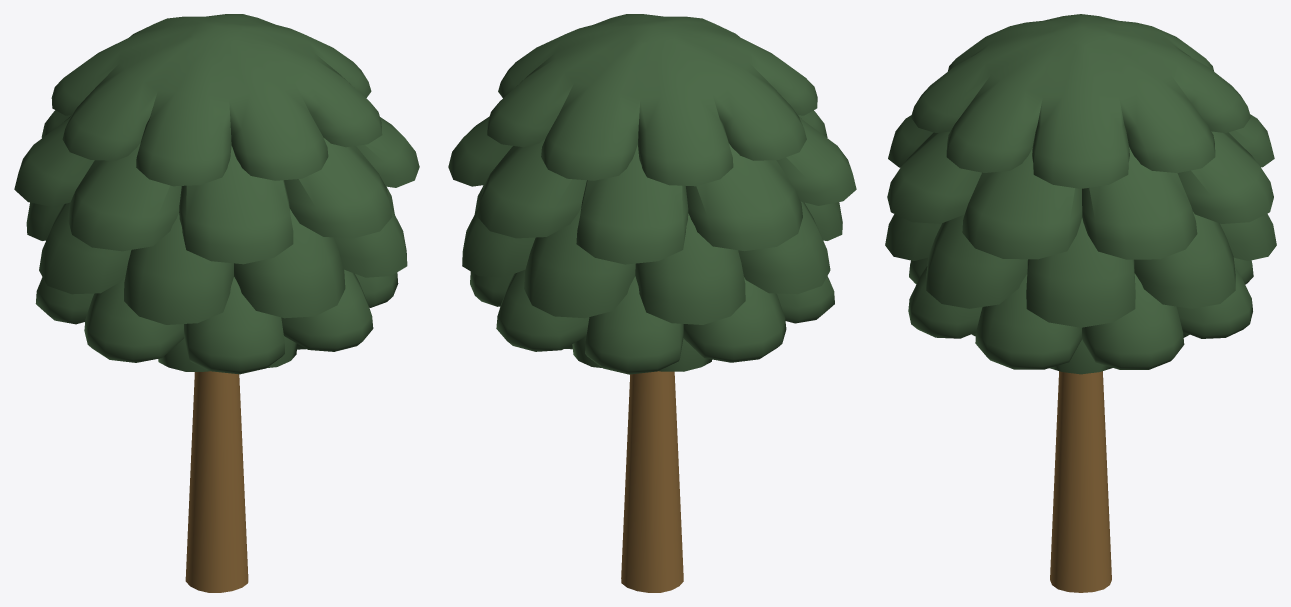
Rendered from quaternius-platformer-game-tree.glb.
3 views of the same model, side by side, from view 1: azimuth 30°, elevation 25°; view 2: azimuth 150°, elevation 25°; view 3: azimuth 270°, elevation 25° (orthographic).
Parts seen in each view (by area): view 1: Tree; view 2: Tree; view 3: Tree.
Boxes of the visible parts, x1=… form: Tree: x1=14, y1=14, x2=419, y2=592; Tree: x1=448, y1=14, x2=856, y2=592; Tree: x1=885, y1=14, x2=1276, y2=592.
Size of the model in its own units: 5.53 by 8.63 by 5.55.
